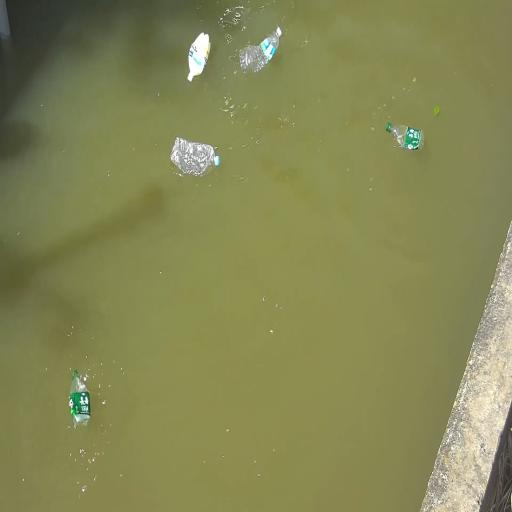plastic: (171, 137, 219, 179), (240, 27, 281, 73), (69, 371, 90, 427), (188, 33, 210, 82), (387, 123, 424, 150)
